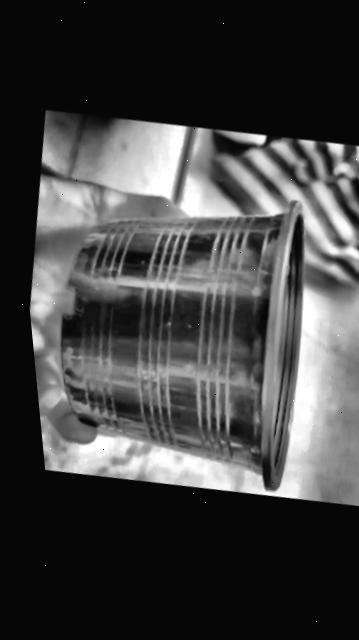pot: (58, 201, 302, 489)
